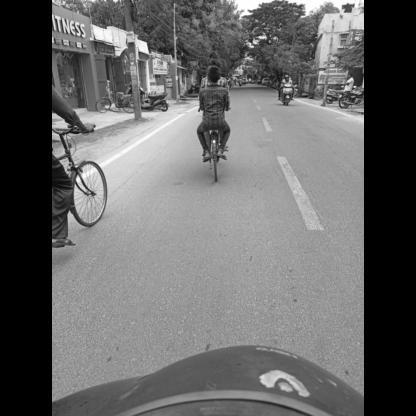Bicycle: (52, 110, 119, 235), (186, 96, 242, 186)
